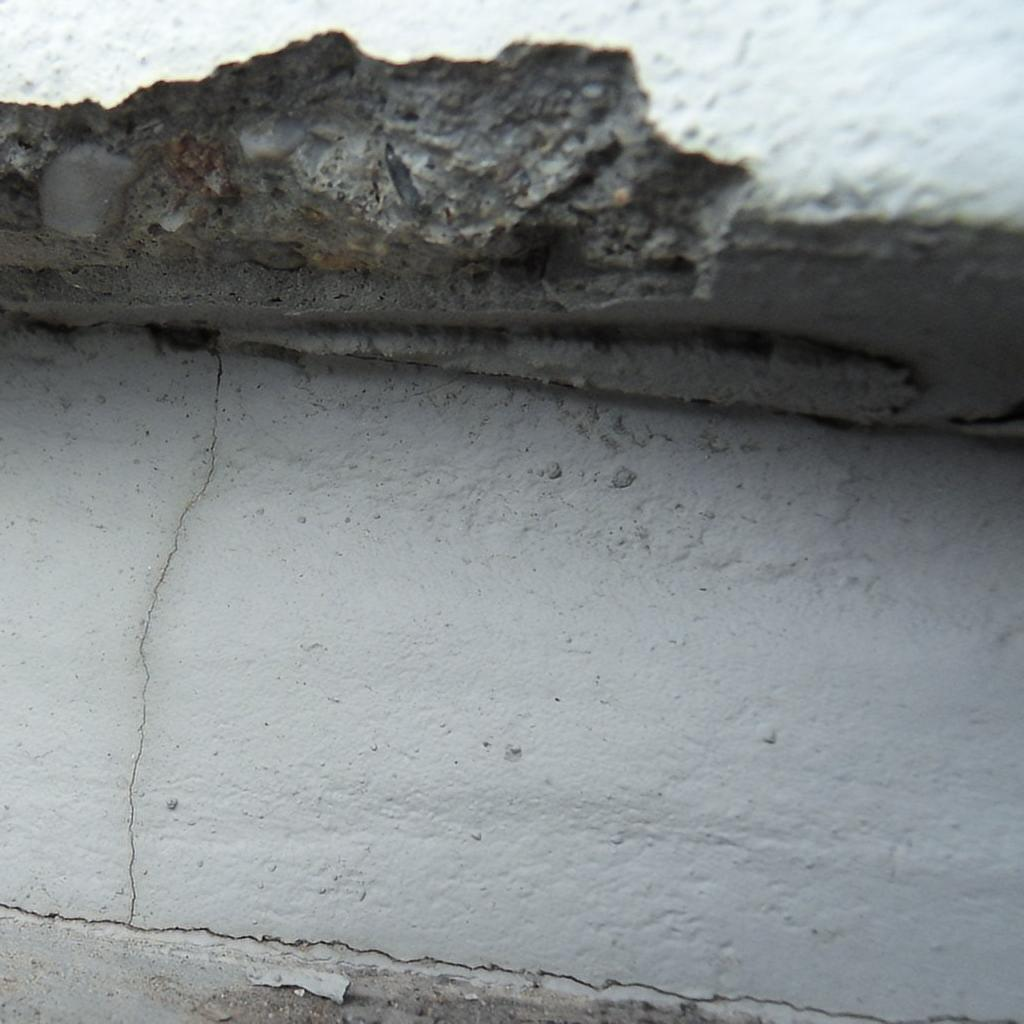spalling: (0, 34, 748, 322)
